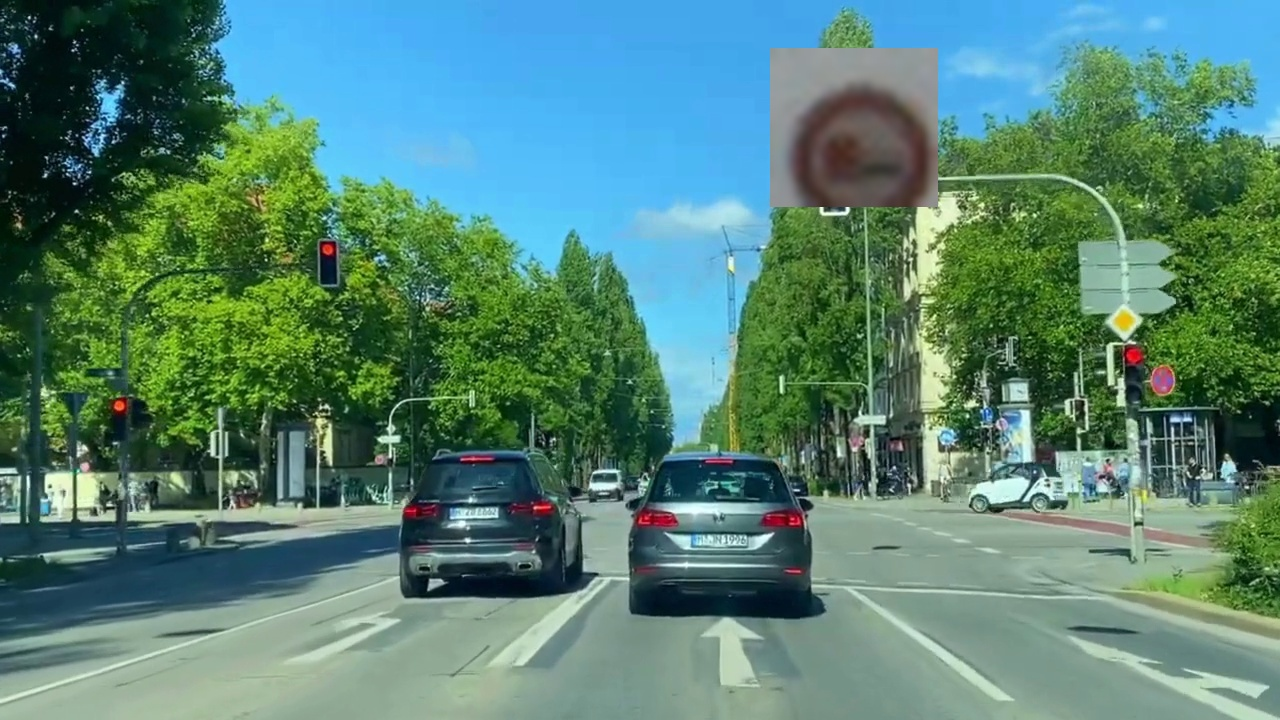No pass >3.5t: (770, 48, 938, 207)
